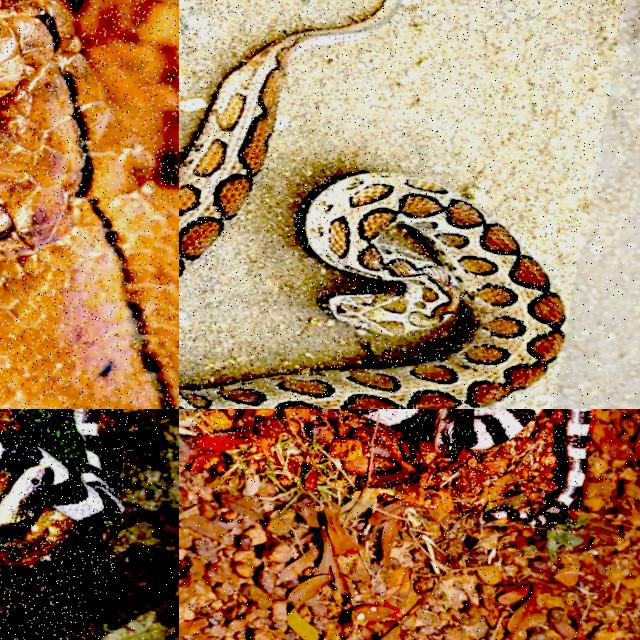Bungarus candidus: (0, 409, 121, 544), (435, 409, 541, 457)
Daboia siamensis: (179, 172, 564, 408)
Malayopython reticulatus: (0, 0, 178, 408)
